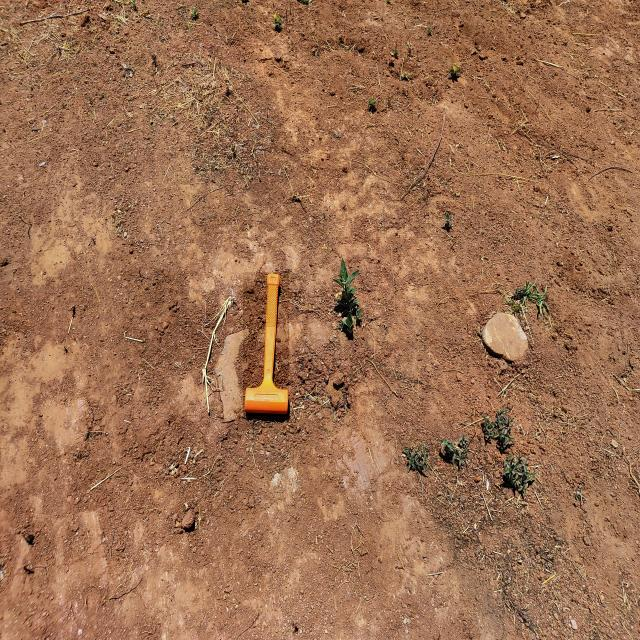Orange_hammer: (243, 272, 289, 416)
